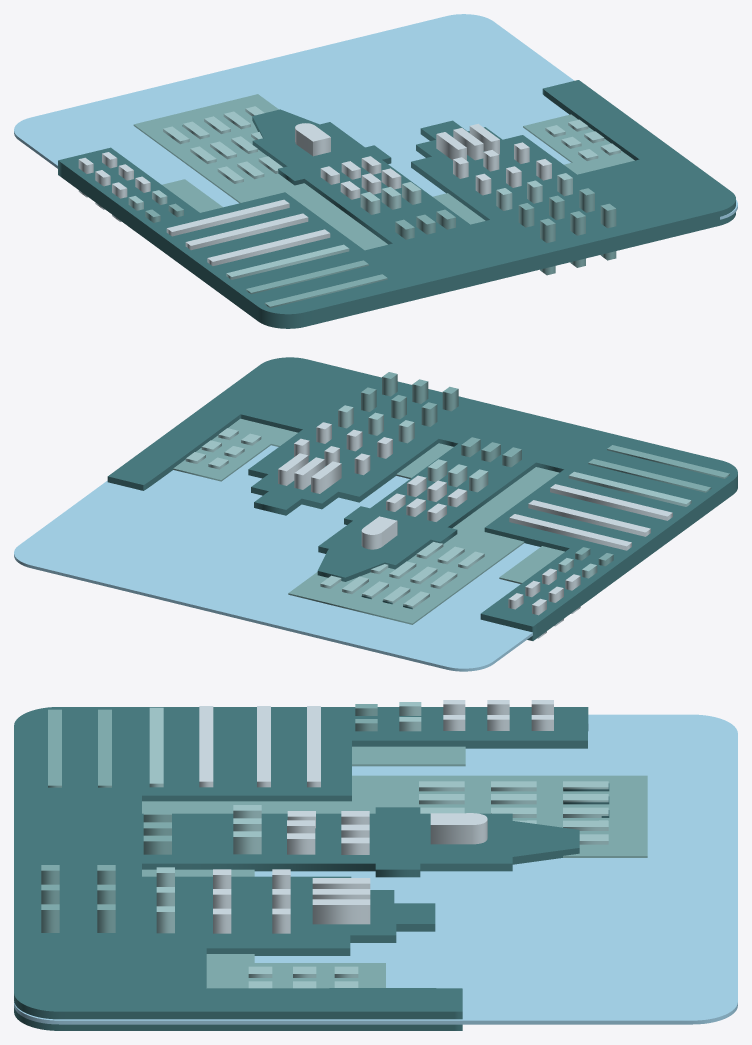
Rendered from emoji_u1f3d9.glb.
The picture shows the model from 3 angles, top to bottom: view 1: azimuth 30°, elevation 25°; view 2: azimuth 150°, elevation 25°; view 3: azimuth 270°, elevation 25°; orthographic projection. The views are drawn at different scales.
Visible parts, largest first — view 1: emoji_u1f3d9; view 2: emoji_u1f3d9; view 3: emoji_u1f3d9.
Boxes of the visible parts, bbox=[...] form: emoji_u1f3d9: bbox=[14, 14, 737, 328]; emoji_u1f3d9: bbox=[14, 357, 737, 671]; emoji_u1f3d9: bbox=[14, 700, 737, 1030].
Size of the model in its own units: 0.034 by 0.0034 by 0.034.
